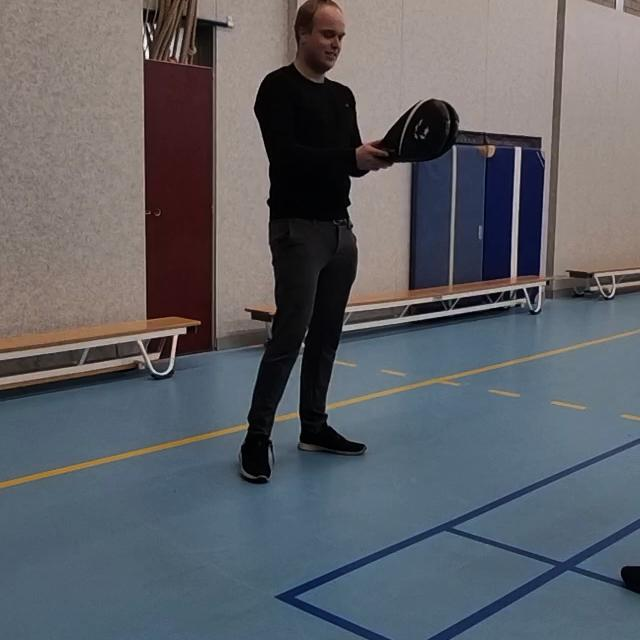paddle: (374, 95, 474, 167)
